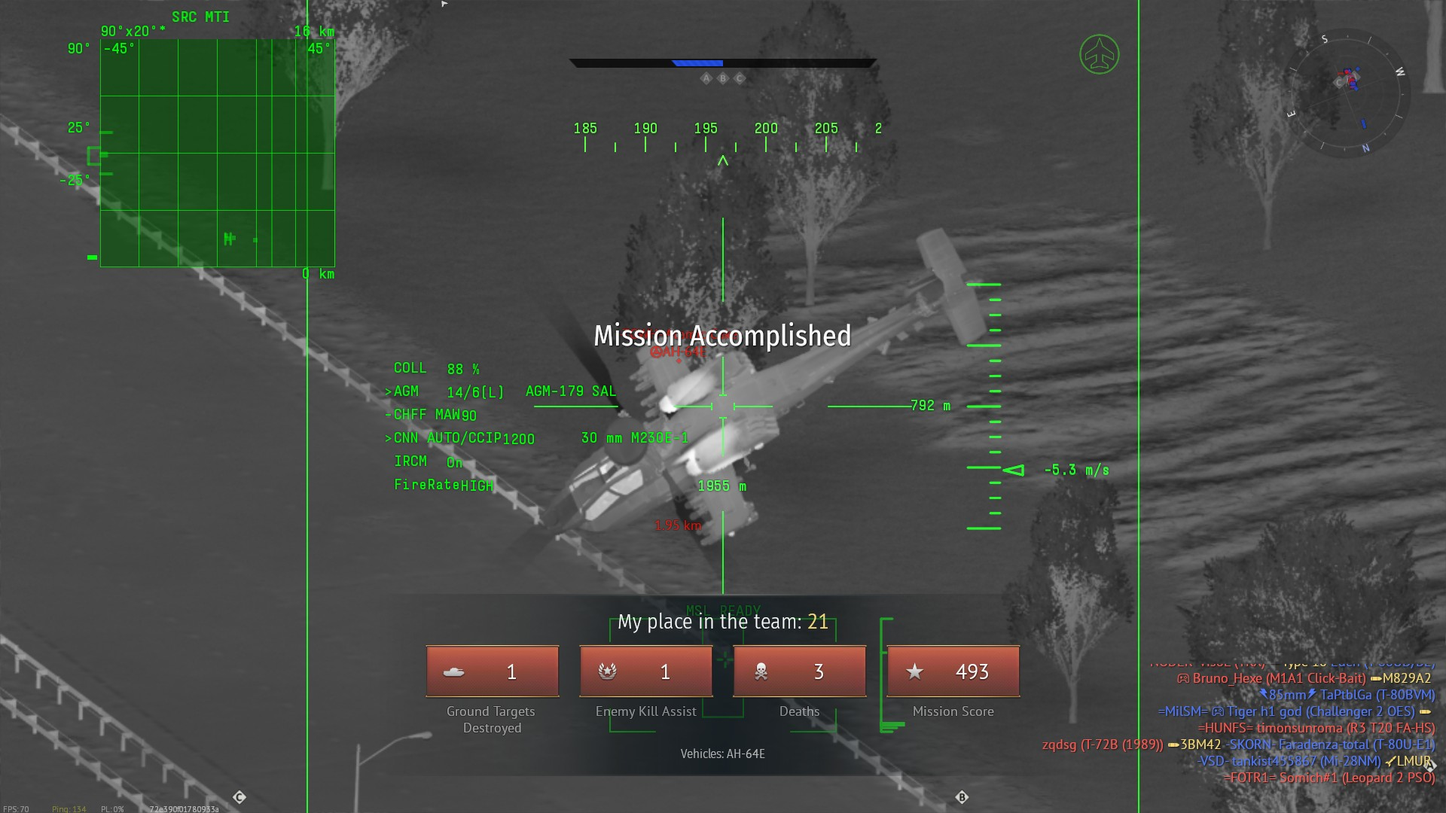ah64: (508, 227, 984, 583)
